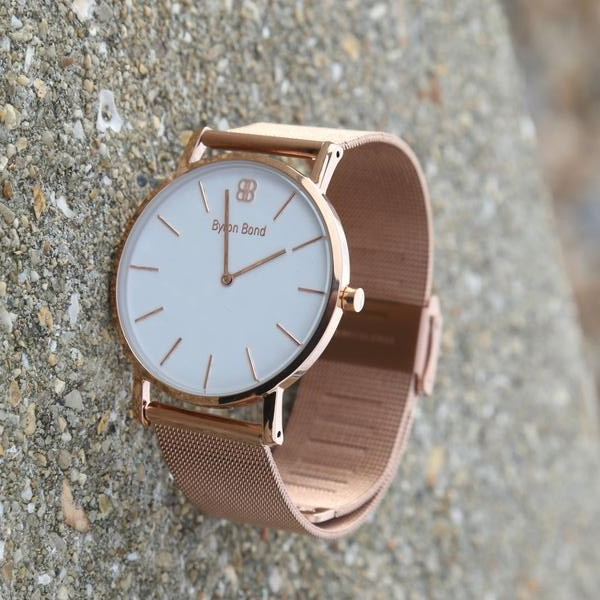clock: (106, 151, 342, 408)
